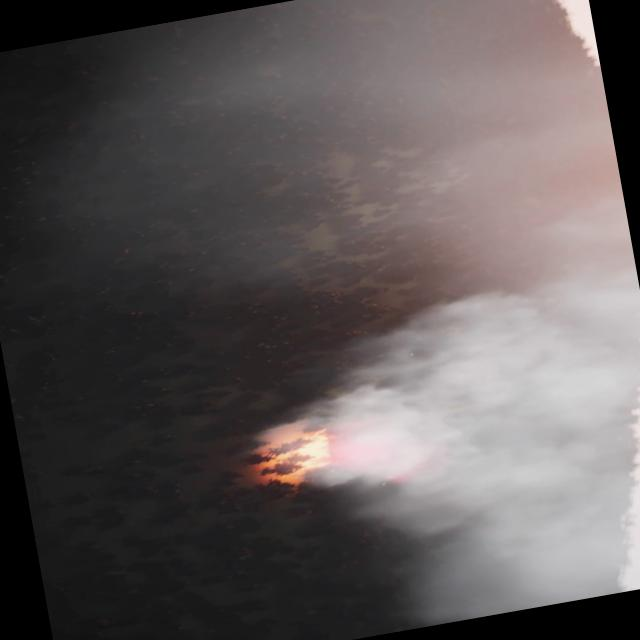fire: (264, 430, 336, 490)
smoke: (51, 0, 640, 640)
